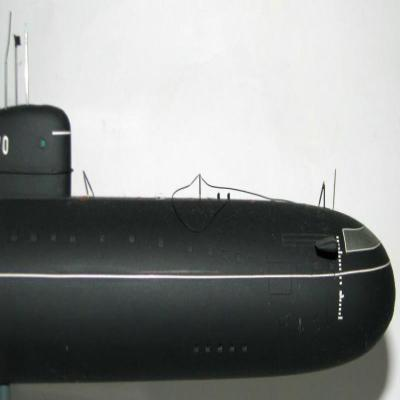other: (0, 104, 396, 400)
